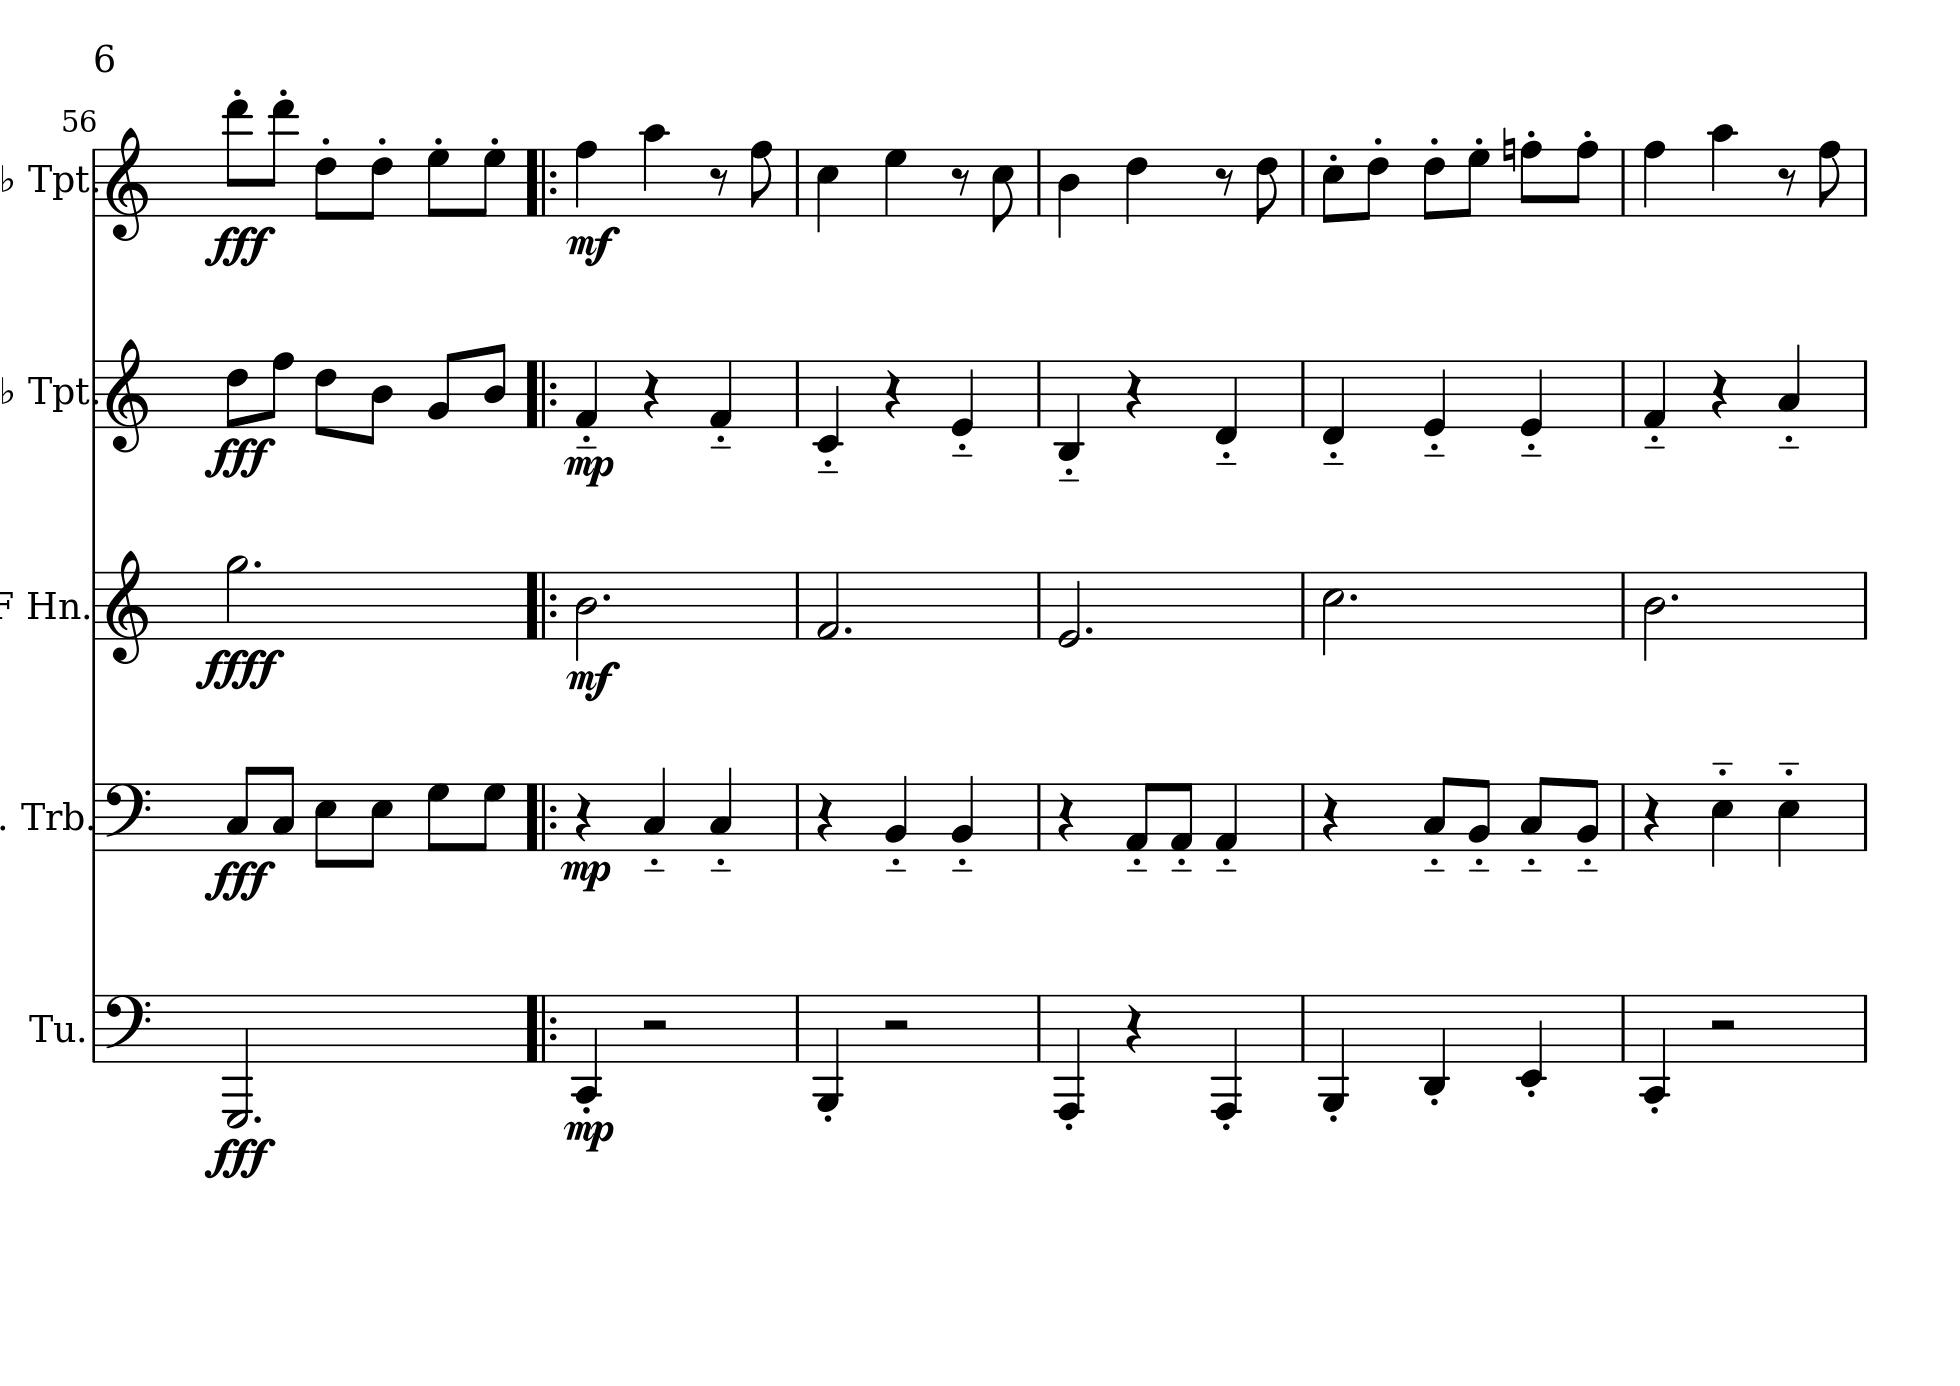2_0: (1056, 570, 1083, 648)
2_1: (814, 570, 841, 640)
2_4: (574, 570, 598, 661), (1641, 570, 1665, 661)
2_5: (1320, 570, 1344, 655)
4_-1: (1321, 357, 1347, 445), (1215, 358, 1239, 445)
4_-2: (813, 358, 841, 453), (1518, 991, 1545, 1087)
4_-3: (1420, 991, 1449, 1098), (1056, 357, 1083, 462)
4_-4: (1641, 991, 1671, 1102), (573, 991, 601, 1104)
4_-5: (813, 991, 844, 1113), (1318, 993, 1350, 1114)
4_-6: (1210, 990, 1245, 1120), (1053, 991, 1087, 1119)
4_-7: (222, 991, 253, 1126)
4_0: (1519, 357, 1545, 439), (1422, 358, 1447, 439), (949, 358, 975, 438)
4_1: (706, 358, 733, 430), (1213, 781, 1240, 853), (1642, 358, 1668, 430), (574, 358, 600, 429)
4_10: (639, 121, 670, 219), (1707, 121, 1737, 219)
4_2: (949, 772, 976, 852), (883, 772, 909, 852)
4_3: (1776, 343, 1803, 427), (642, 765, 667, 850), (709, 766, 733, 850)
4_4: (1056, 147, 1080, 238)
4_5: (814, 145, 840, 234), (1710, 781, 1734, 870), (1776, 781, 1800, 868)
4_6: (1125, 145, 1149, 226)
4_7: (882, 147, 909, 217)
4_8: (573, 138, 600, 219), (1641, 139, 1668, 219)
4_9: (222, 553, 250, 640)
5: (61, 106, 79, 133)
6: (94, 40, 115, 72), (79, 106, 97, 133)
8_1: (1123, 780, 1156, 853), (1168, 781, 1194, 853)
8_13: (262, 97, 298, 216), (220, 99, 252, 217)
8_2: (426, 349, 459, 429), (1467, 777, 1492, 853), (1575, 777, 1600, 852)
8_3: (223, 763, 258, 850), (1422, 774, 1453, 850), (1519, 774, 1551, 850), (271, 763, 295, 853)
8_4: (361, 358, 394, 447), (483, 340, 508, 430)
8_5: (361, 781, 394, 870), (312, 781, 337, 870), (990, 147, 1015, 234), (1320, 147, 1345, 225)
8_6: (360, 147, 394, 222), (1359, 145, 1390, 222), (1254, 147, 1282, 226), (223, 358, 250, 430), (313, 358, 337, 439), (313, 147, 337, 222), (1422, 147, 1446, 222)
8_7: (472, 147, 507, 219), (1459, 147, 1491, 219), (474, 781, 505, 852), (426, 147, 451, 219), (426, 781, 450, 853)
8_8: (262, 349, 295, 430), (1567, 139, 1599, 219), (1816, 139, 1845, 219), (748, 139, 775, 217), (1518, 138, 1543, 219)
Fclef: (103, 780, 151, 853), (102, 991, 151, 1062)
Gclef: (103, 547, 151, 664), (103, 336, 150, 454), (105, 124, 150, 241)
Hn: (22, 585, 81, 627)
LeftRepeatSign: (520, 993, 559, 1063), (520, 570, 559, 639), (523, 148, 559, 217), (523, 358, 559, 427), (523, 781, 559, 850)
Natural: (1500, 124, 1516, 174)
Rests2: (637, 1015, 673, 1036), (1707, 1015, 1743, 1036), (879, 1015, 913, 1036)
Rests4: (1054, 790, 1077, 844), (640, 367, 661, 420), (882, 367, 903, 420), (814, 790, 835, 843), (1320, 790, 1341, 843), (1641, 790, 1662, 843), (1123, 1002, 1144, 1054), (573, 790, 594, 841), (1125, 367, 1144, 418), (1710, 367, 1729, 418)
Rests8: (708, 165, 730, 198), (949, 165, 970, 196), (1215, 165, 1236, 196), (1777, 165, 1798, 196)
Single_barline: (789, 358, 807, 427), (1614, 358, 1632, 427), (1857, 358, 1875, 427), (789, 571, 807, 639), (87, 358, 103, 427), (87, 781, 103, 850), (789, 781, 805, 850), (1857, 781, 1873, 850), (1032, 360, 1048, 427), (1615, 571, 1632, 639), (85, 993, 102, 1060), (1030, 994, 1047, 1062), (1857, 994, 1873, 1062), (789, 148, 805, 214), (1615, 148, 1632, 214), (1857, 148, 1873, 214), (1857, 571, 1873, 637), (1615, 783, 1632, 849), (88, 148, 103, 217), (87, 570, 102, 639), (1032, 571, 1047, 640), (1296, 994, 1311, 1063), (1296, 148, 1311, 216), (1296, 360, 1311, 427), (1296, 571, 1311, 639), (1032, 783, 1047, 850), (1296, 783, 1311, 850), (790, 994, 805, 1062), (1615, 994, 1630, 1062), (1032, 148, 1047, 214)
Tpt: (25, 369, 87, 415), (25, 159, 87, 199)
Trb: (19, 793, 84, 835)
dot: (600, 589, 613, 603), (1668, 589, 1681, 603), (1347, 589, 1359, 604), (250, 558, 262, 571), (841, 622, 853, 634), (1083, 622, 1095, 634), (252, 1113, 262, 1123)
fff: (202, 1134, 277, 1183), (202, 856, 274, 906), (202, 223, 276, 271), (202, 433, 274, 481)
ffff: (195, 646, 283, 693)
mf: (562, 658, 621, 703), (564, 226, 621, 268)
mp: (561, 451, 616, 487), (562, 1116, 615, 1153), (559, 856, 610, 894)
